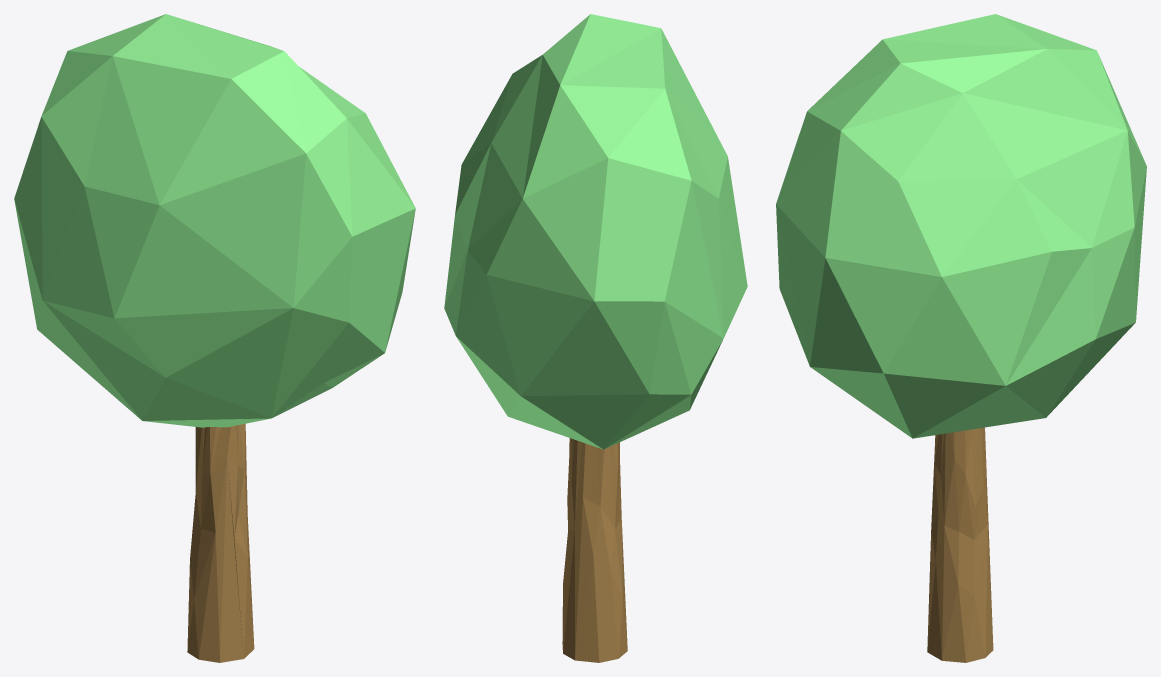
The model's file is pohon5.fbx.
3 renders of one model, left to right at view 1: azimuth 30°, elevation 25°; view 2: azimuth 150°, elevation 25°; view 3: azimuth 270°, elevation 25°, orthographic.
Visible parts, largest first — view 1: Cylinder.016; view 2: Cylinder.016; view 3: Cylinder.016.
Part boxes in pixels (x1,y1,x2,y2): Cylinder.016: (14, 14, 415, 662); Cylinder.016: (444, 14, 747, 662); Cylinder.016: (776, 14, 1146, 662).
Size of the model in its own units: 632 by 1131 by 577.
